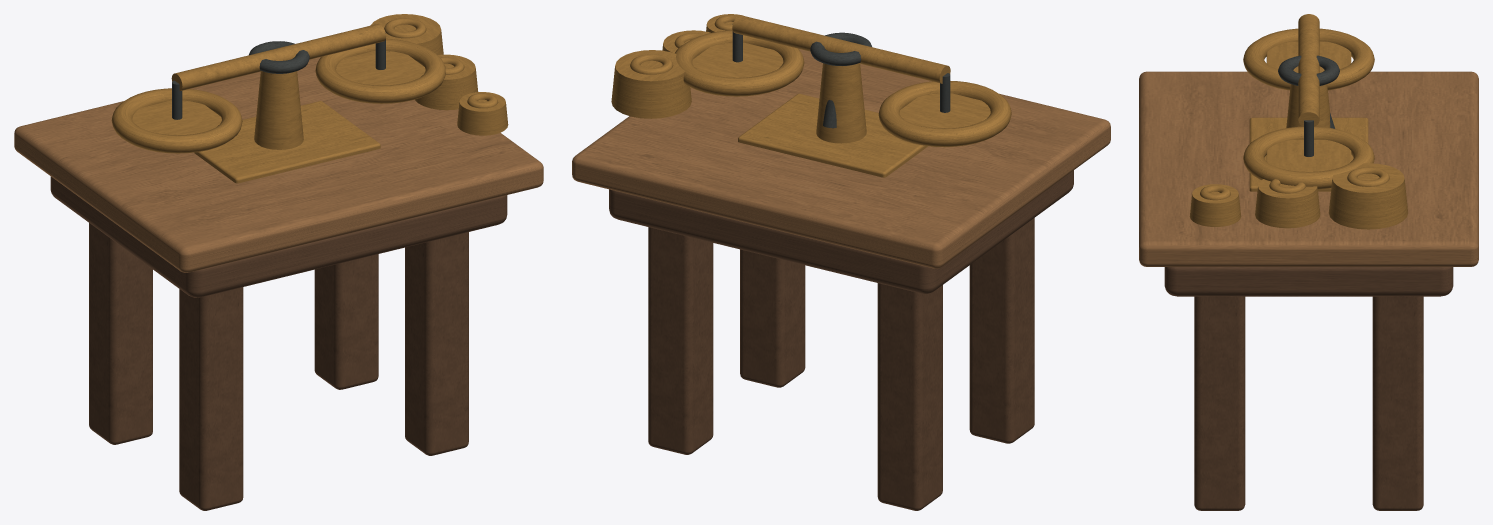
The model's file is scales_table.glb.
3 renders of one model, left to right at view 1: azimuth 30°, elevation 25°; view 2: azimuth 150°, elevation 25°; view 3: azimuth 270°, elevation 25°, orthographic. The views are drawn at different scales.
Parts seen in each view (by area): view 1: scales_table; view 2: scales_table; view 3: scales_table.
Part boxes in pixels (x1,y1,x2,y2): scales_table: (14,14,543,510); scales_table: (572,14,1110,510); scales_table: (1139,14,1478,510).
Bounding box in the file's own units: 1 × 1 × 0.8.
1 material, 1 textured.
